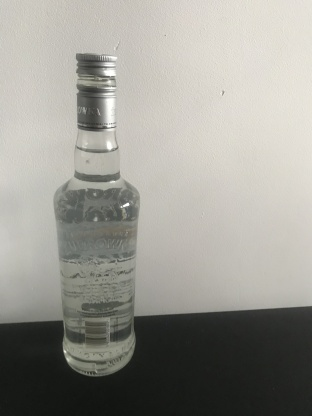nakretka: (74, 50, 119, 132)
